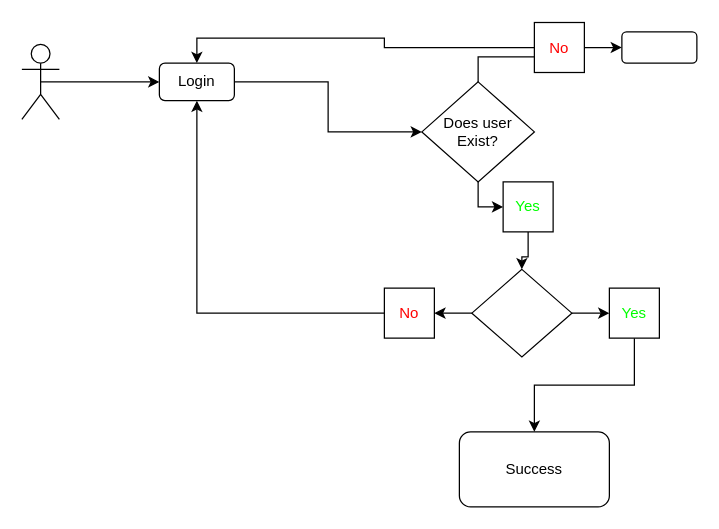
Some shapes in this 719 by 529 pixel diagram are drawn without their labels. The centre of each missing label's shape, as x and y in pixels:
"Actor" goes at (40,81).
"Password & Email correct?" goes at (521,312).
"Register" goes at (659,47).
